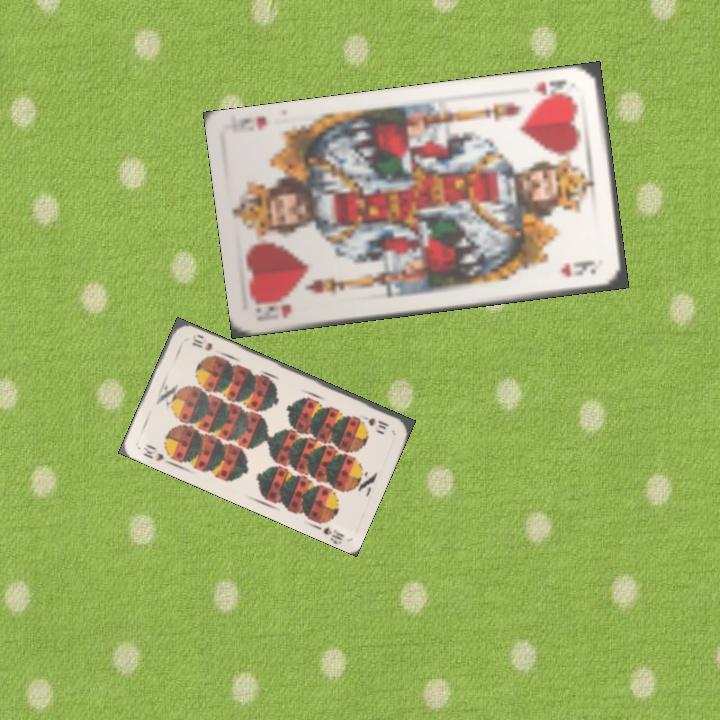HK: (530, 75, 575, 103), (259, 299, 294, 321)
S10: (139, 440, 174, 467), (355, 410, 392, 432)
